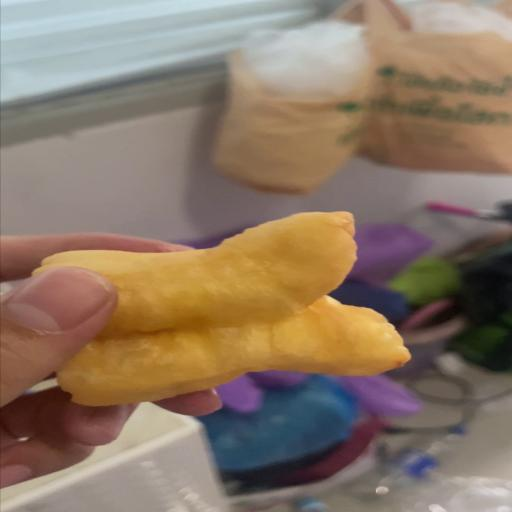street_golden_good: (43, 211, 410, 404)
